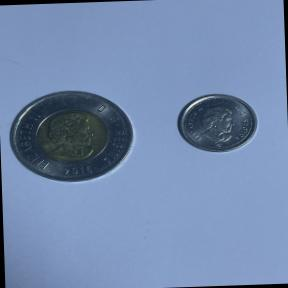Canada-10cent-B: (171, 88, 264, 158)
Canada-2Dollar-B: (3, 85, 142, 187)
